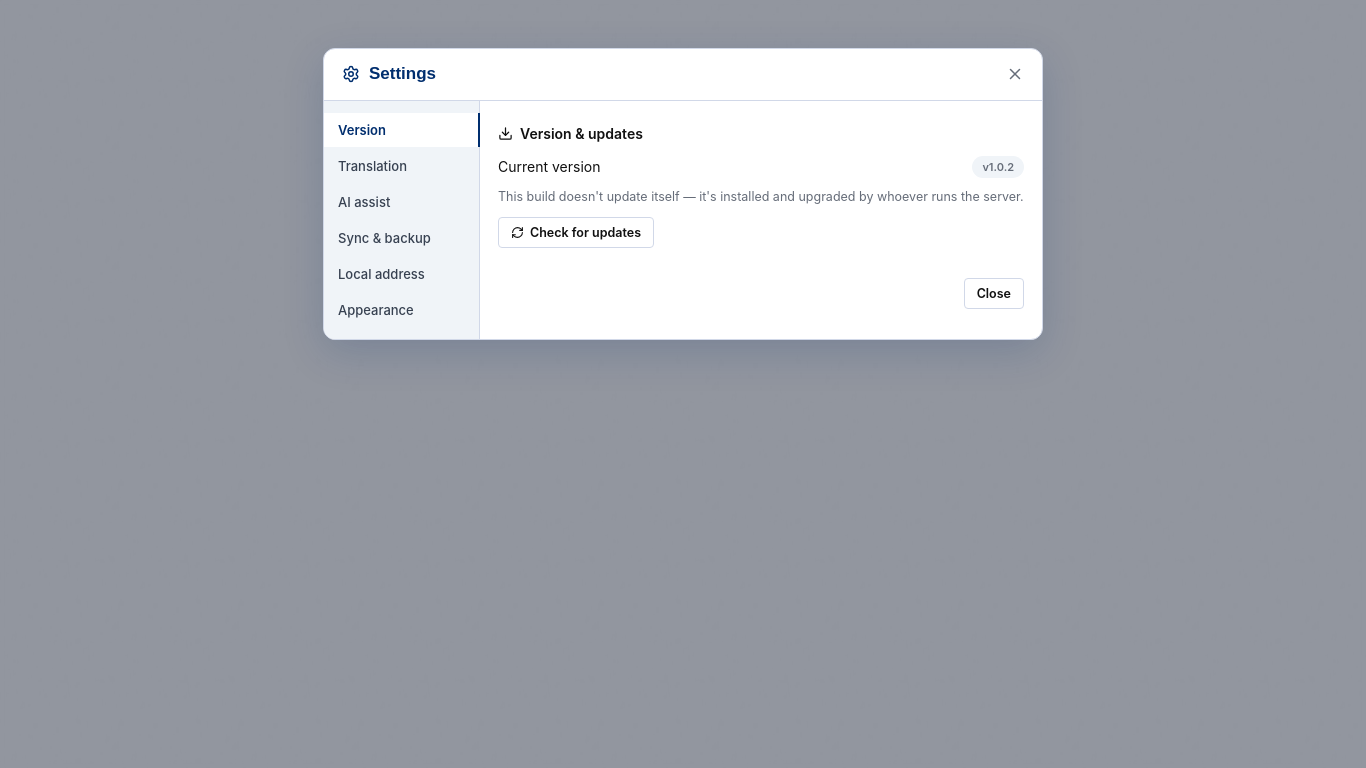
Test: <SettingsModal> › a build that cannot install its own updates › reports a failed check as an alert, not as "up to date"
Click the button "Check for updates".
click(576, 232)  # box [498,217,654,248]
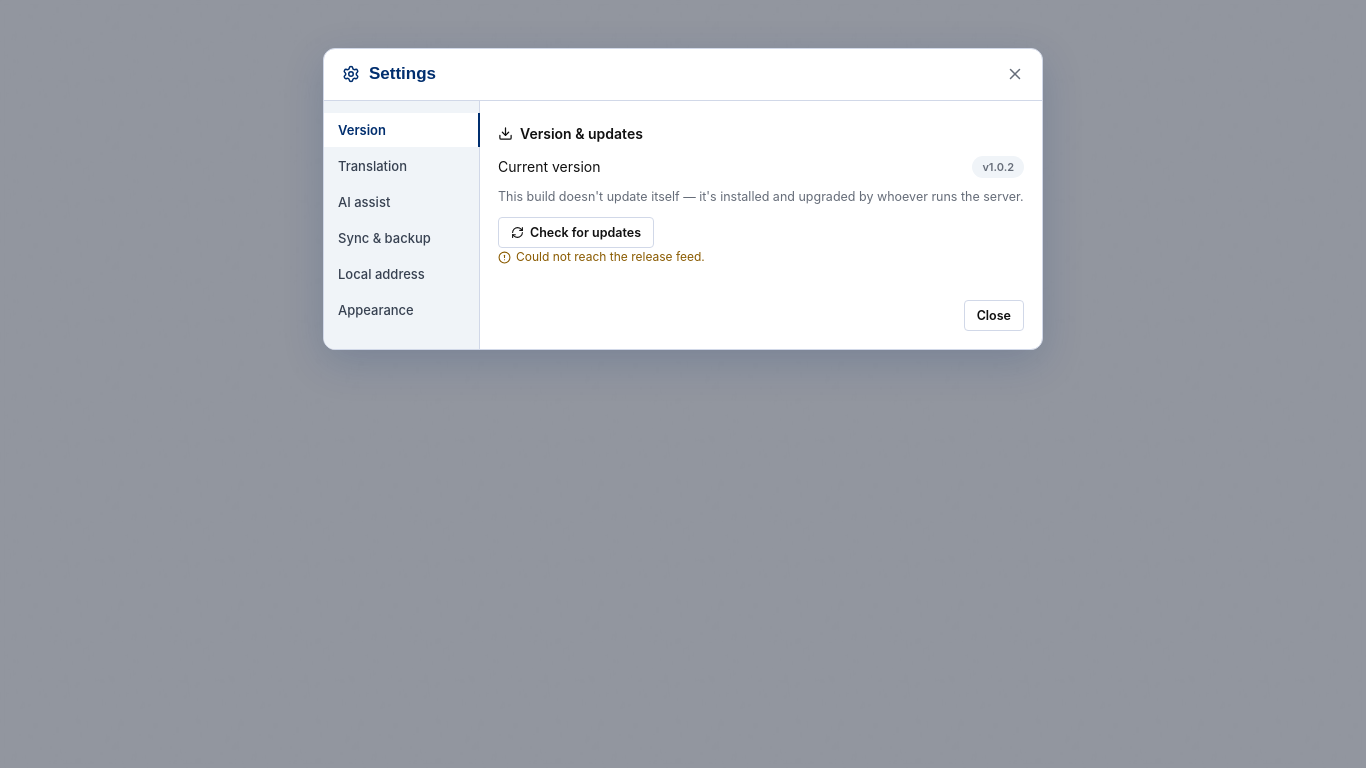
Now the message reads "Could not reach the release feed.", box [516,249,705,264]
